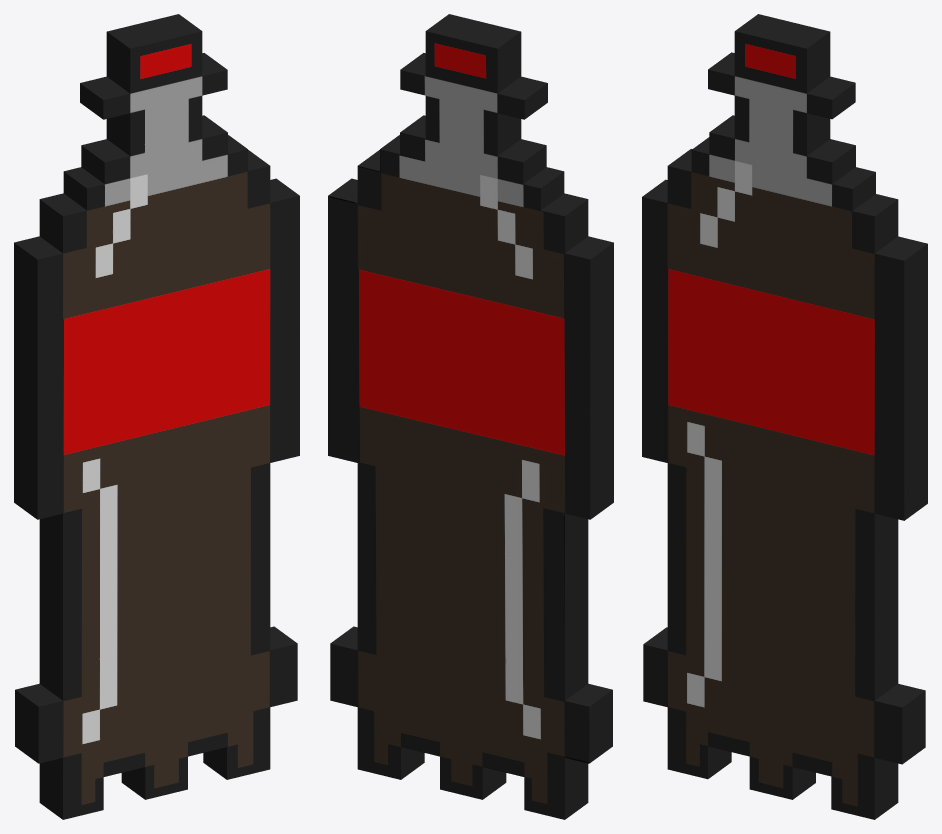
Rendered from Refri.FBX.
3 views of the same model, side by side, from view 1: azimuth 30°, elevation 25°; view 2: azimuth 150°, elevation 25°; view 3: azimuth 330°, elevation 25° (orthographic).
Parts seen in each view (by area): view 1: Refri_01; view 2: Refri_01; view 3: Refri_01.
Boxes of the visible parts, x1,y1,x2,y2 form: Refri_01: (14,14,299,819); Refri_01: (328,14,613,819); Refri_01: (642,14,927,819).
Size of the model in its own units: 6339 by 17429 by 983.
1 material, 1 textured.
